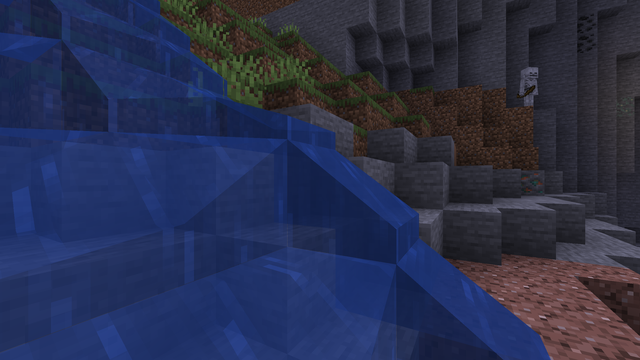squelettes: (519, 65, 537, 109)
